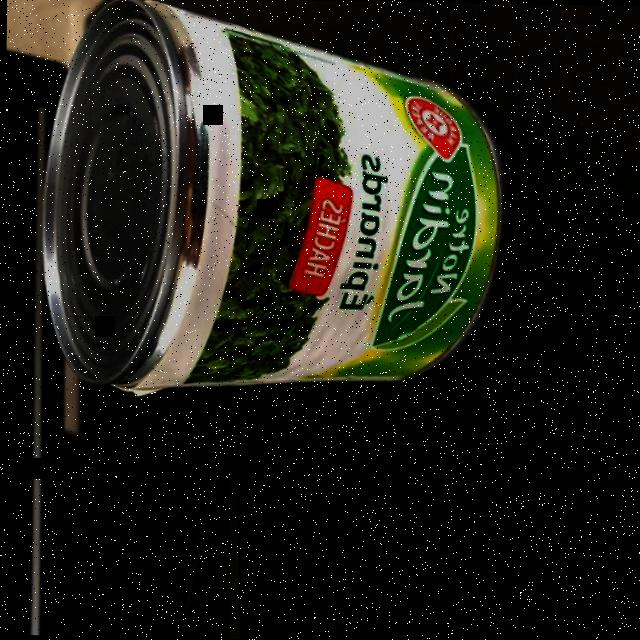can: (31, 0, 515, 403)
